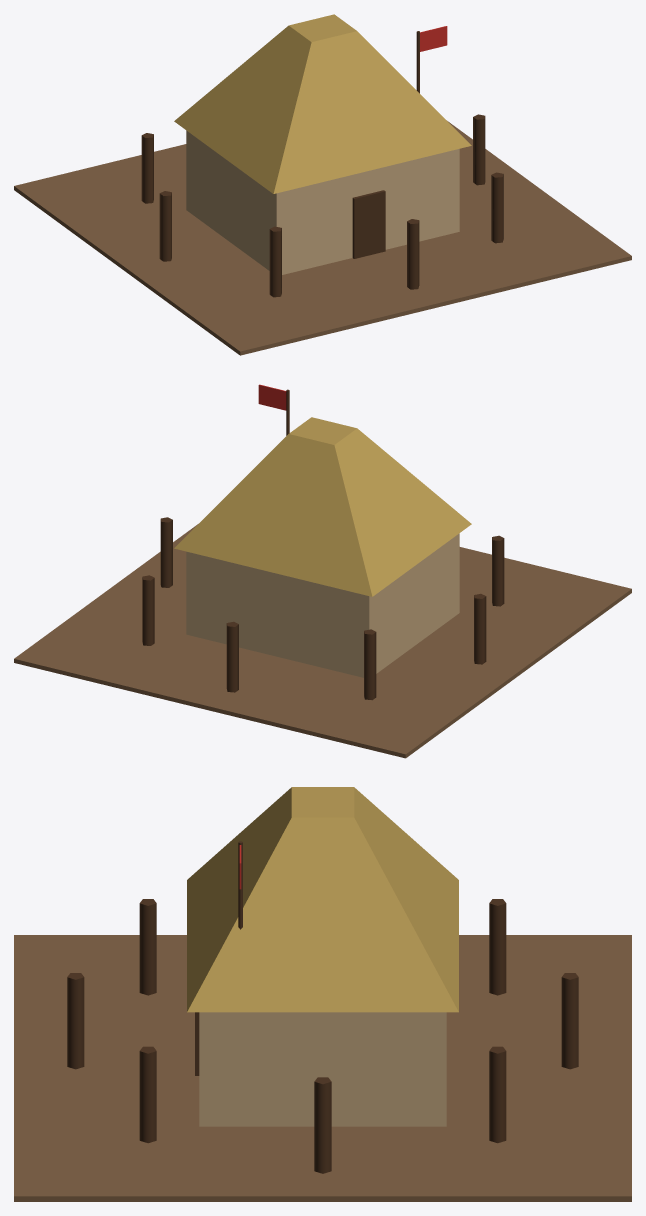
The model's file is bld_special_command_center_a01_lod2.glb.
3 renders of one model, top to bottom at view 1: azimuth 30°, elevation 25°; view 2: azimuth 150°, elevation 25°; view 3: azimuth 270°, elevation 25°, orthographic. The views are drawn at different scales.
Visible parts, largest first — view 1: body; view 2: body; view 3: body.
Boxes of the visible parts, bbox=[...] form: body: bbox=[14, 14, 631, 355]; body: bbox=[14, 384, 631, 758]; body: bbox=[14, 787, 631, 1201].
Size of the model in its own units: 15 by 7.3 by 15.
